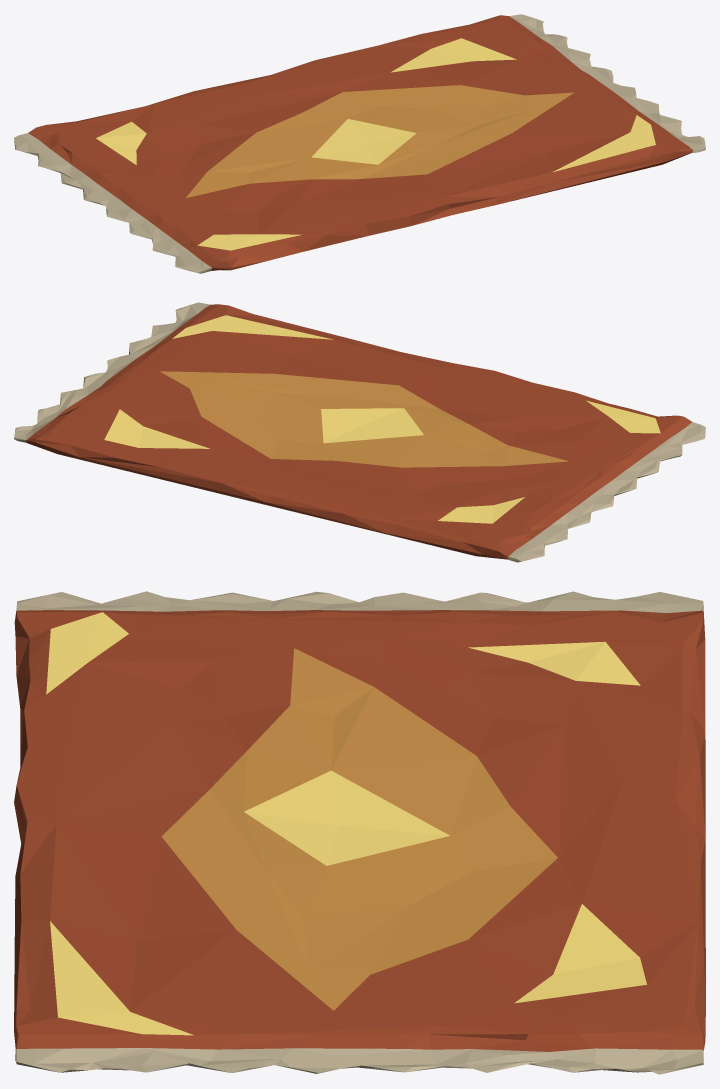
Rendered from rug 1.glb.
The picture shows the model from 3 angles, top to bottom: view 1: azimuth 30°, elevation 25°; view 2: azimuth 150°, elevation 25°; view 3: azimuth 270°, elevation 25°; orthographic projection. The views are drawn at different scales.
Parts seen in each view (by area): view 1: Cube; view 2: Cube; view 3: Cube.
Boxes of the visible parts, box(x1,y1,x2,y2) form: Cube: box(14, 14, 705, 273); Cube: box(14, 302, 705, 562); Cube: box(14, 591, 705, 1074).
Bounding box in the file's own units: 2.39 × 0.0515 × 1.45.
